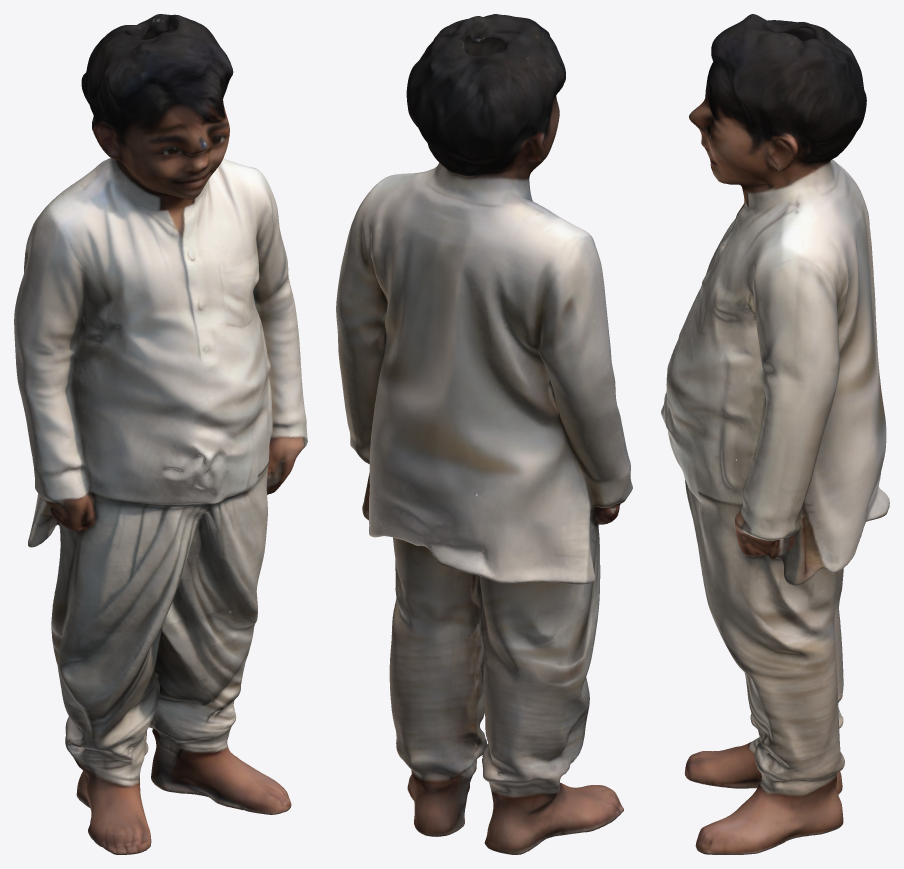
The model's file is Create_a_realistic_3D_0219200718_texture.fbx.
The picture shows the model from 3 angles, left to right: view 1: azimuth 30°, elevation 25°; view 2: azimuth 150°, elevation 25°; view 3: azimuth 270°, elevation 25°; orthographic projection. The views are drawn at different scales.
Parts seen in each view (by area): view 1: Mesh1_Mesh1.028; view 2: Mesh1_Mesh1.028; view 3: Mesh1_Mesh1.028.
Boxes of the visible parts, bbox=[...] form: Mesh1_Mesh1.028: bbox=[14, 14, 307, 854]; Mesh1_Mesh1.028: bbox=[336, 14, 632, 854]; Mesh1_Mesh1.028: bbox=[661, 14, 889, 854].
Bounding box in the file's own units: 72.01 × 200 × 52.88.
Materials: 1 (1 with a texture image).
